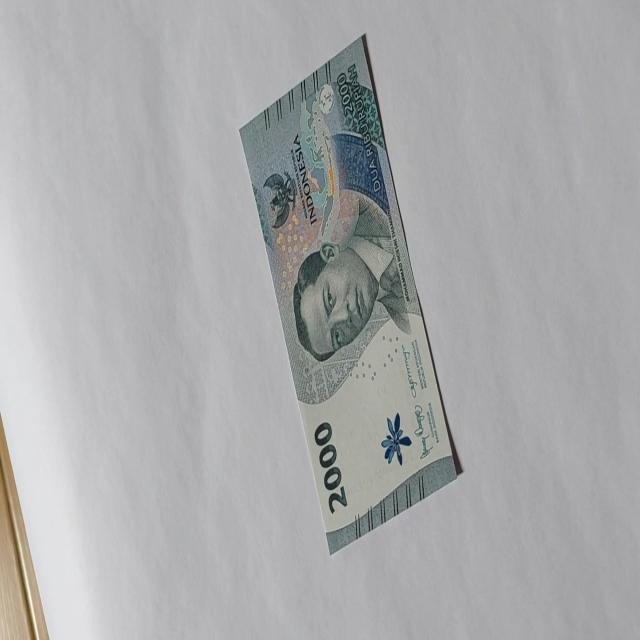dua ribu rupiah: (238, 33, 460, 554), (292, 188, 411, 364)
